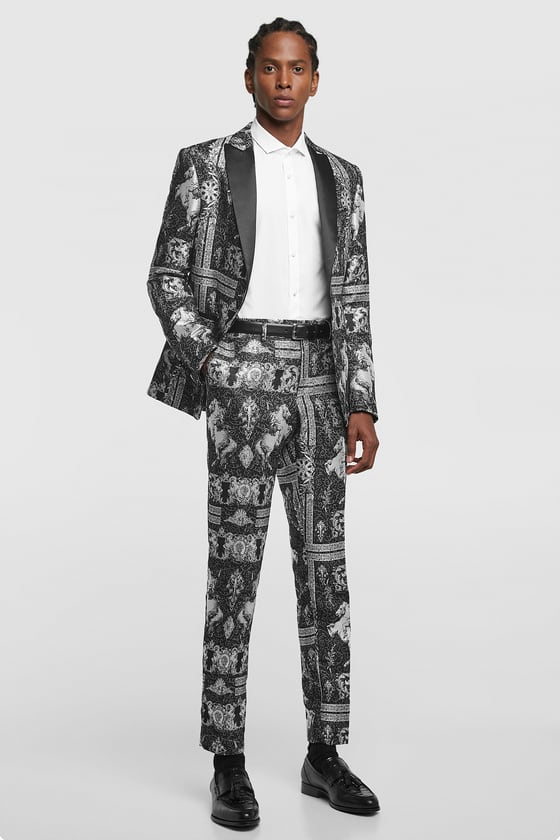feet: (183, 705, 388, 828)
